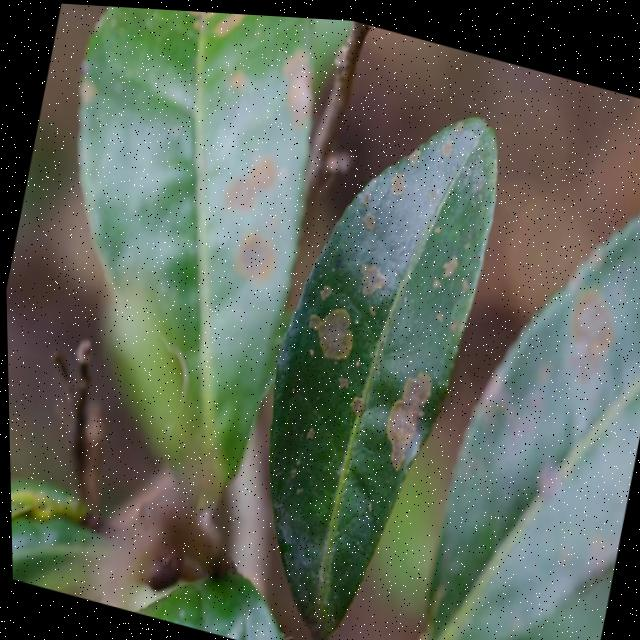Tea algae leaf spot: (262, 119, 499, 525)
